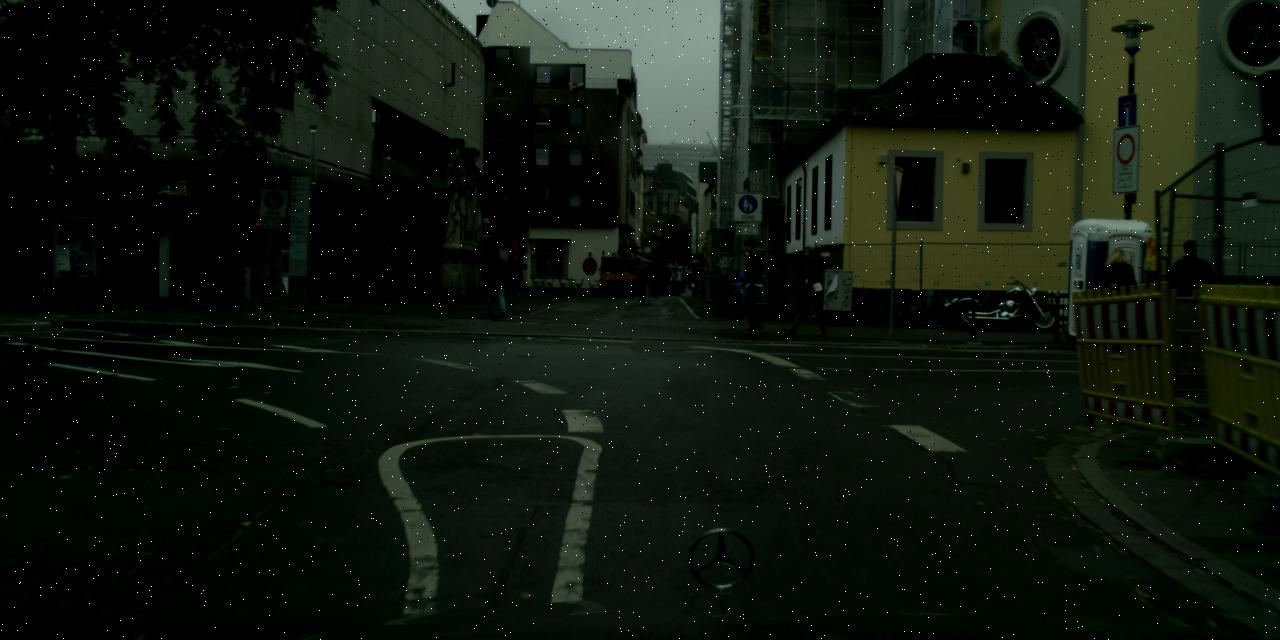ped: (1164, 238, 1214, 360), (1096, 246, 1140, 356), (732, 238, 771, 336), (788, 244, 824, 334), (653, 262, 708, 300), (483, 250, 509, 312), (736, 264, 756, 314), (714, 268, 732, 314), (728, 268, 746, 314), (638, 262, 654, 304)
